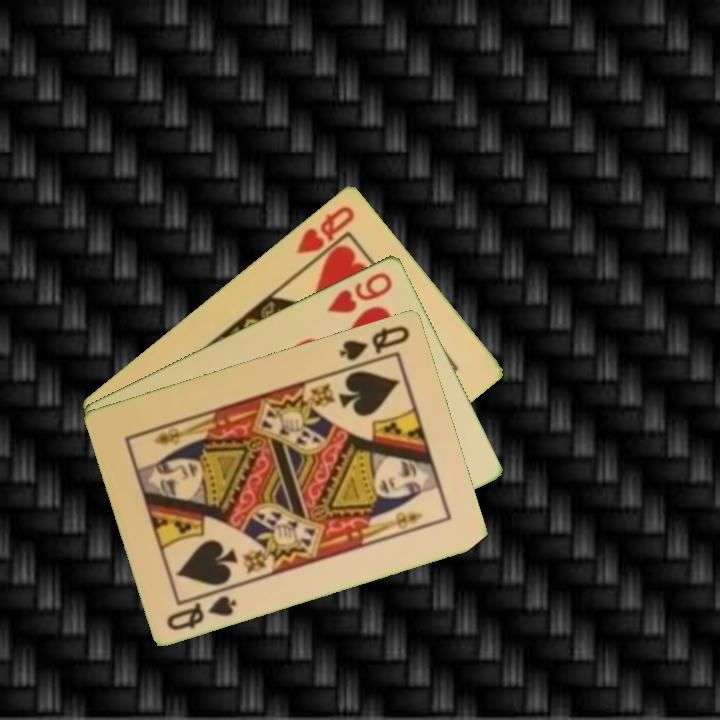9h: (323, 268, 396, 316)
Qh: (293, 201, 358, 257)
Qs: (163, 584, 240, 633), (335, 321, 413, 363)
